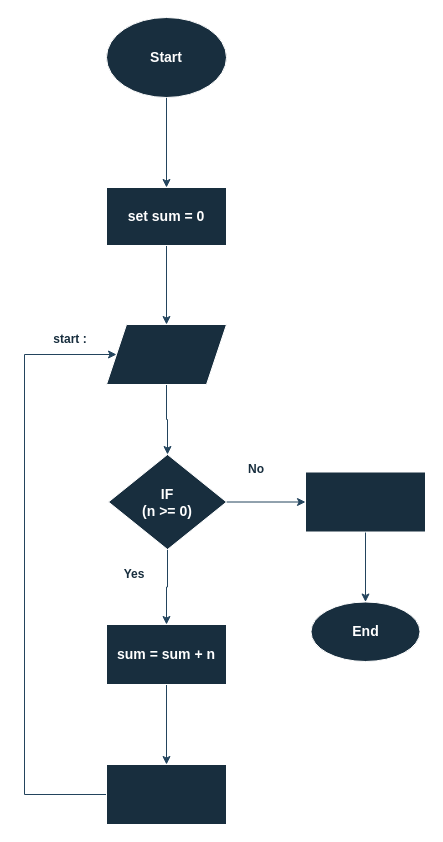
The diagram is 443 pixels wide and 842 high, and some of its shapes have lost their labels. Each missing label, with the centre of its shape:
go to start: the point at 166,794
input int n: the point at 166,354
print sum: the point at 365,501
